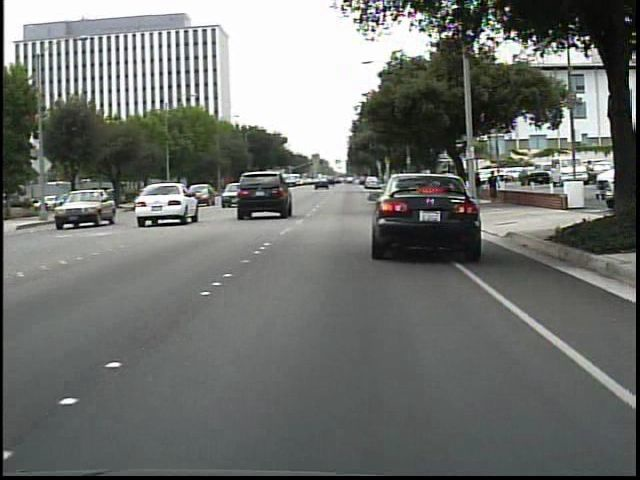person: (486, 170, 501, 205), (471, 171, 486, 202)
